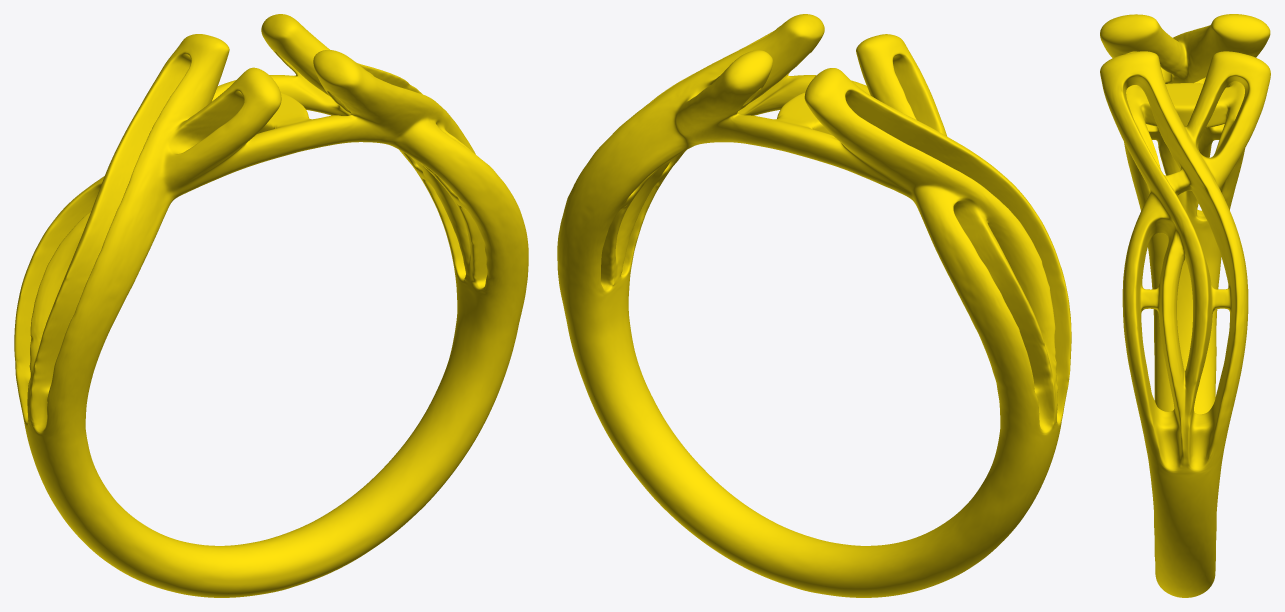
The model's file is Shank_Twist_Channel_A_No, Hidden Halo_Band.glb.
3 views of the same model, side by side, from view 1: azimuth 30°, elevation 25°; view 2: azimuth 150°, elevation 25°; view 3: azimuth 270°, elevation 25° (orthographic).
Bounding box in the file's own units: 0.0213 × 0.0227 × 0.00656.
